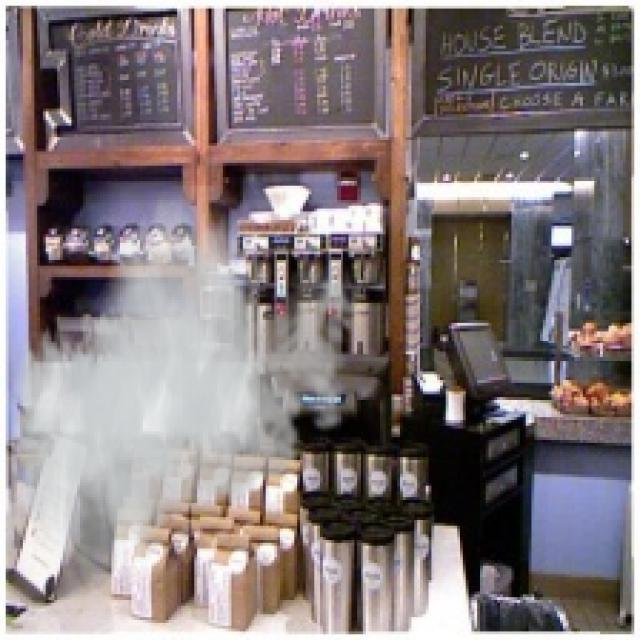Smoke: (11, 186, 366, 608)
